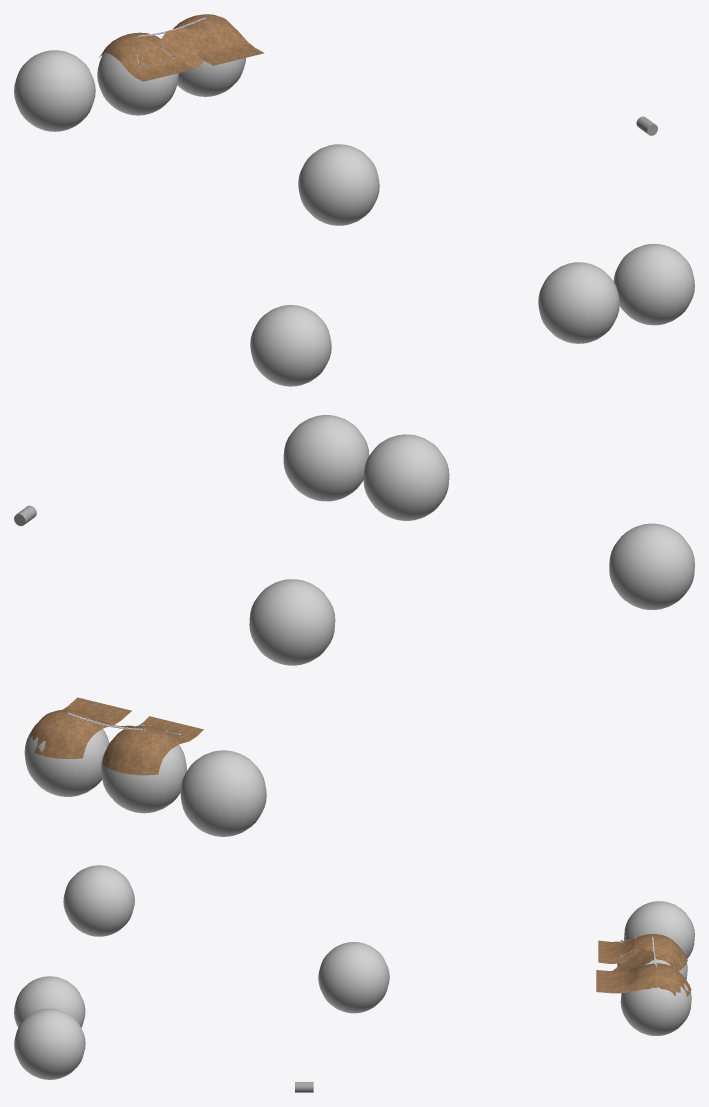
File: Floaties.fbx
3 views of the same model, one above another, from view 1: azimuth 30°, elevation 25°; view 2: azimuth 150°, elevation 25°; view 3: azimuth 270°, elevation 25° (orthographic). The views are drawn at different scales.
Visible parts, largest first — view 1: Floaty6, Floaty2, Floaty7, Floaty5, Floaty4, Floaty, nurbsToPoly3, nurbsToPoly4, Floaty1, nurbsToPoly2; view 2: Floaty5, Floaty2, Floaty7, Floaty6, Floaty4, nurbsToPoly3, nurbsToPoly4, Floaty1, Floaty; view 3: Floaty4, Floaty6, Floaty7, Floaty1, Floaty2, Floaty5, nurbsToPoly4, nurbsToPoly3, nurbsToPoly2.
Boxes of the visible parts, x1=… form: Floaty6: x1=250, y1=305, x2=331, y2=386; Floaty2: x1=14, y1=50, x2=95, y2=131; Floaty7: x1=298, y1=144, x2=379, y2=225; Floaty5: x1=538, y1=262, x2=619, y2=343; Floaty4: x1=613, y1=243, x2=694, y2=325; Floaty: x1=97, y1=53, x2=178, y2=115; nurbsToPoly3: x1=99, y1=32, x2=194, y2=81; nurbsToPoly4: x1=173, y1=14, x2=264, y2=65; Floaty1: x1=177, y1=58, x2=245, y2=96; nurbsToPoly2: x1=157, y1=27, x2=209, y2=67; Floaty5: x1=363, y1=434, x2=449, y2=520; Floaty2: x1=180, y1=750, x2=266, y2=836; Floaty7: x1=249, y1=579, x2=335, y2=665; Floaty6: x1=609, y1=523, x2=694, y2=609; Floaty4: x1=283, y1=415, x2=369, y2=501; nurbsToPoly3: x1=103, y1=716, x2=203, y2=775; nurbsToPoly4: x1=30, y1=697, x2=131, y2=758; Floaty1: x1=24, y1=725, x2=109, y2=796; Floaty: x1=101, y1=745, x2=186, y2=813; Floaty4: x1=14, y1=1008, x2=85, y2=1079; Floaty6: x1=63, y1=865, x2=134, y2=936; Floaty7: x1=318, y1=942, x2=389, y2=1013; Floaty1: x1=620, y1=983, x2=691, y2=1035; Floaty2: x1=624, y1=901, x2=694, y2=958; Floaty5: x1=14, y1=976, x2=85, y2=1027; nurbsToPoly4: x1=596, y1=963, x2=691, y2=996; nurbsToPoly3: x1=598, y1=934, x2=687, y2=971; nurbsToPoly2: x1=612, y1=947, x2=654, y2=972.
Size of the model in its own units: 2810 by 423 by 3681.
